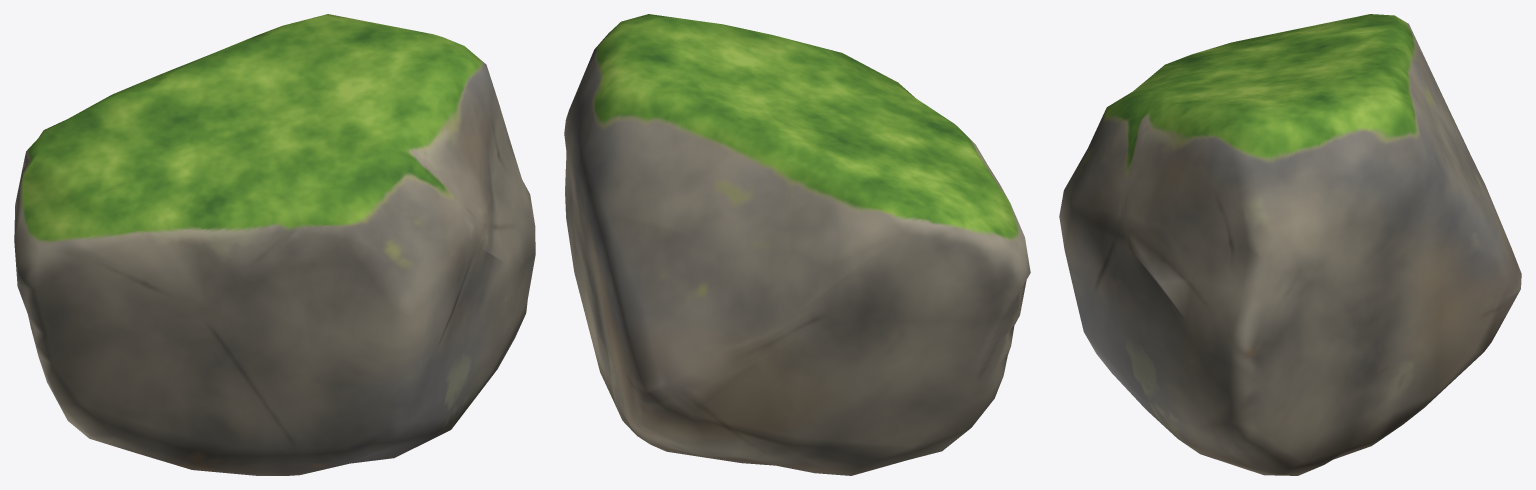
The model's file is Rock_Mossy_C.fbx.
3 views of the same model, side by side, from view 1: azimuth 30°, elevation 25°; view 2: azimuth 150°, elevation 25°; view 3: azimuth 270°, elevation 25° (orthographic). The views are drawn at different scales.
Parts seen in each view (by area): view 1: Rock_Mossy_C; view 2: Rock_Mossy_C; view 3: Rock_Mossy_C.
Boxes of the visible parts, left/top/right/bottom form: Rock_Mossy_C: left=14, top=14, right=535, bottom=475; Rock_Mossy_C: left=564, top=14, right=1030, bottom=475; Rock_Mossy_C: left=1059, top=14, right=1521, bottom=475.
Size of the model in its own units: 0.7194 by 0.5331 by 0.5993.
Materials: 1 (1 with a texture image).
